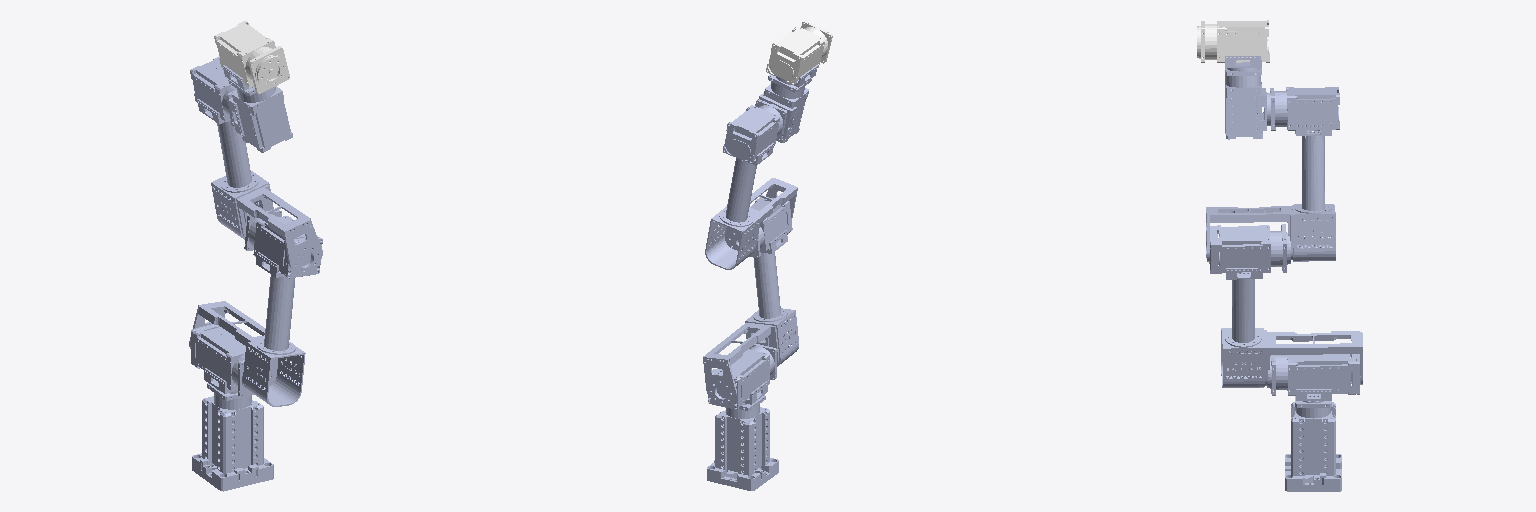
robot.urdf — single_arm_v2:
<?xml version="1.0" encoding="utf-8"?>
<!-- This URDF was automatically created by SolidWorks to URDF Exporter! Originally created by [author] ([email redacted]) 
     Commit Version: 1.6.0-4-g7f85cfe  Build Version: 1.6.7995.38578
     For more information, please see http://wiki.ros.org/sw_urdf_exporter -->
<robot
  name="single_arm_v2">
  <!-- <link name="dummy">
   </link> -->
  <link
    name="base_link">
    <inertial>
      <origin
        xyz="8.3267E-17 -0.00062215 0.025317"
        rpy="0 0 0" />
      <mass
        value="0.15351" />
      <inertia
        ixx="0.0001349"
        ixy="5.1034E-20"
        ixz="8.9997E-21"
        iyy="0.00013491"
        iyz="-2.7571E-08"
        izz="7.78E-05" />
    </inertial>
    <visual>
      <origin
        xyz="0 0 0"
        rpy="0 0 0" />
      <geometry>
        <mesh
          filename="package://single_arm_v2/meshes/base_link.STL" />
      </geometry>
      <material
        name="">
        <color
          rgba="0.79216 0.81961 0.93333 1" />
      </material>
    </visual>
    <collision>
      <origin
        xyz="0 0 0"
        rpy="0 0 0" />
      <geometry>
        <mesh
          filename="package://single_arm_v2/meshes/base_link.STL" />
      </geometry>
    </collision>
  </link>
  <link
    name="Link1">
    <inertial>
      <origin
        xyz="-0.000208969561899502 3.70415647875377E-06 -0.0914678034682378"
        rpy="0 0 0" />
      <mass
        value="0.356747175042505" />
      <inertia
        ixx="0.000466935161399951"
        ixy="-1.39053669707838E-08"
        ixz="-4.18194497082418E-06"
        iyy="0.000471168600139652"
        iyz="7.79979816899343E-08"
        izz="0.000169110112801691" />
    </inertial>
    <visual>
      <origin
        xyz="0 0 0"
        rpy="0 0 0" />
      <geometry>
        <mesh
          filename="package://single_arm_v2/meshes/Link1.STL" />
      </geometry>
      <material
        name="">
        <color
          rgba="0.792156862745098 0.819607843137255 0.933333333333333 1" />
      </material>
    </visual>
    <collision>
      <origin
        xyz="0 0 0"
        rpy="0 0 0" />
      <geometry>
        <mesh
          filename="package://single_arm_v2/meshes/Link1.STL" />
      </geometry>
    </collision>
  </link>
  <joint
    name="Joint1"
    type="continuous">
    <origin
      xyz="0 0 0.166"
      rpy="0 0 0.035583" />
    <parent
      link="base_link" />
    <child
      link="Link1" />
    <axis
      xyz="0 0 1" />
  </joint>
  <link
    name="Link2">
    <inertial>
      <origin
        xyz="0.0267138919983926 -0.000551681871358595 -0.0794495660665453"
        rpy="0 0 0" />
      <mass
        value="0.637415662122893" />
      <inertia
        ixx="0.000729639362759575"
        ixy="1.15654793300562E-06"
        ixz="-4.09240061674875E-06"
        iyy="0.000781749941722208"
        iyz="-5.93794042473328E-07"
        izz="0.000405758677952146" />
    </inertial>
    <visual>
      <origin
        xyz="0 0 0"
        rpy="0 0 0" />
      <geometry>
        <mesh
          filename="package://single_arm_v2/meshes/Link2.STL" />
      </geometry>
      <material
        name="">
        <color
          rgba="0.792156862745098 0.819607843137255 0.933333333333333 1" />
      </material>
    </visual>
    <collision>
      <origin
        xyz="0 0 0"
        rpy="0 0 0" />
      <geometry>
        <mesh
          filename="package://single_arm_v2/meshes/Link2.STL" />
      </geometry>
    </collision>
  </link>
  <joint
    name="Joint2"
    type="continuous">
    <origin
      xyz="0.0037177 -0.10443 0.166"
      rpy="1.5708 -1.4653 0.035583" />
    <parent
      link="base_link" />
    <child
      link="Link2" />
    <axis
      xyz="0 0 1" />
  </joint>
  <link
    name="Link3">
    <inertial>
      <origin
        xyz="0.0287714458780937 0.000486530855206564 0.070422833788985"
        rpy="0 0 0" />
      <mass
        value="0.58382475134923" />
      <inertia
        ixx="0.000530570540190881"
        ixy="-1.00386692094843E-06"
        ixz="3.32555743007372E-06"
        iyy="0.000584921945100324"
        iyz="-1.06538525812843E-06"
        izz="0.000382901776733043" />
    </inertial>
    <visual>
      <origin
        xyz="0 0 0"
        rpy="0 0 0" />
      <geometry>
        <mesh
          filename="package://single_arm_v2/meshes/Link3.STL" />
      </geometry>
      <material
        name="">
        <color
          rgba="0.792156862745098 0.819607843137255 0.933333333333333 1" />
      </material>
    </visual>
    <collision>
      <origin
        xyz="0 0 0"
        rpy="0 0 0" />
      <geometry>
        <mesh
          filename="package://single_arm_v2/meshes/Link3.STL" />
      </geometry>
    </collision>
  </link>
  <joint
    name="Joint3"
    type="continuous">
    <origin
      xyz="0.022524 0.00080181 0.37881"
      rpy="-1.5708 -1.393 -3.106" />
    <parent
      link="base_link" />
    <child
      link="Link3" />
    <axis
      xyz="0 0 -1" />
  </joint>
  <link
    name="Link4">
    <inertial>
      <origin
        xyz="-1.44241830598718E-05 -0.000237088430205645 -0.0815190126224092"
        rpy="0 0 0" />
      <mass
        value="0.313854171959485" />
      <inertia
        ixx="0.000309055663727506"
        ixy="3.15842982335696E-08"
        ixz="-2.1341120240503E-07"
        iyy="0.000314206451539731"
        iyz="-3.50781233699246E-06"
        izz="0.000148950383506142" />
    </inertial>
    <visual>
      <origin
        xyz="0 0 0"
        rpy="0 0 0" />
      <geometry>
        <mesh
          filename="package://single_arm_v2/meshes/Link4.STL" />
      </geometry>
      <material
        name="">
        <color
          rgba="0.792156862745098 0.819607843137255 0.933333333333333 1" />
      </material>
    </visual>
    <collision>
      <origin
        xyz="0 0 0"
        rpy="0 0 0" />
      <geometry>
        <mesh
          filename="package://single_arm_v2/meshes/Link4.STL" />
      </geometry>
    </collision>
  </link>
  <joint
    name="Joint4"
    type="continuous">
    <origin
      xyz="-0.01164 -0.10358 0.58944"
      rpy="1.5708 -0.23859 0.035583" />
    <parent
      link="base_link" />
    <child
      link="Link4" />
    <axis
      xyz="0 0 1" />
  </joint>
  <link
    name="Link5">
    <inertial>
      <origin
        xyz="-7.75054120247254E-06 0.000237400315751118 -0.0815190126223736"
        rpy="0 0 0" />
      <mass
        value="0.313854171959485" />
      <inertia
        ixx="0.000309054296972209"
        ixy="-1.6993505184371E-08"
        ixz="-1.1467216663642E-07"
        iyy="0.000314207818295028"
        iyz="3.51242680024222E-06"
        izz="0.000148950383506142" />
    </inertial>
    <visual>
      <origin
        xyz="0 0 0"
        rpy="0 0 0" />
      <geometry>
        <mesh
          filename="package://single_arm_v2/meshes/Link5.STL" />
      </geometry>
      <material
        name="">
        <color
          rgba="0.792156862745098 0.819607843137255 0.933333333333333 1" />
      </material>
    </visual>
    <collision>
      <origin
        xyz="0 0 0"
        rpy="0 0 0" />
      <geometry>
        <mesh
          filename="package://single_arm_v2/meshes/Link5.STL" />
      </geometry>
    </collision>
  </link>
  <joint
    name="Joint5"
    type="continuous">
    <origin
      xyz="-0.035991 -0.10445 0.68961"
      rpy="0.0079364 -0.23847 0.0019965" />
    <parent
      link="base_link" />
    <child
      link="Link5" />
    <axis
      xyz="0 0 1" />
  </joint>
  <link
    name="Link6">
    <inertial>
      <origin
        xyz="0 0 0"
        rpy="0 0 0" />
      <mass
        value="0" />
      <inertia
        ixx="0"
        ixy="0"
        ixz="0"
        iyy="0"
        iyz="0"
        izz="0" />
    </inertial>
    <visual>
      <origin
        xyz="0 0 0"
        rpy="0 0 0" />
      <geometry>
        <mesh
          filename="package://single_arm_v2/meshes/Link6.STL" />
      </geometry>
      <material
        name="">
        <color
          rgba="1 1 1 1" />
      </material>
    </visual>
    <collision>
      <origin
        xyz="0 0 0"
        rpy="0 0 0" />
      <geometry>
        <mesh
          filename="package://single_arm_v2/meshes/Link6.STL" />
      </geometry>
    </collision>
  </link>
  <joint
    name="Joint6"
    type="continuous">
    <origin
      xyz="-0.035726 -0.17294 0.68909"
      rpy="1.5787 -0.23847 0.0019965" />
    <parent
      link="base_link" />
    <child
      link="Link6" />
    <axis
      xyz="0 0 1" />
  </joint>
  <!-- <joint name="dummy_joint" type="fixed">
    <parent link="dummy"/>
    <child link="base_link"/>
   </joint> -->
</robot>

--- Facts derived from the render (not from the file) ---
Views: 3 orthographic renders of the robot side by side, from view 1: azimuth 30°, elevation 25°; view 2: azimuth 150°, elevation 25°; view 3: azimuth 270°, elevation 25°.
Robot: single_arm_v2 — 7 links, 6 joints (6 continuous); root link base_link; default pose: every joint at zero.
Visible links, largest first — view 1: Link2, Link3, base_link, Link6, Link5, Link1, Link4; view 2: Link2, Link3, base_link, Link4, Link6, Link1, Link5; view 3: Link2, Link3, Link4, base_link, Link5, Link6, Link1.
Link boxes in pixels (x1=…): Link2: x1=189, y1=252, x2=305, y2=406; Link3: x1=197, y1=99, x2=322, y2=278; base_link: x1=192, y1=396, x2=273, y2=491; Link6: x1=214, y1=21, x2=289, y2=93; Link5: x1=222, y1=65, x2=292, y2=152; Link1: x1=204, y1=368, x2=257, y2=468; Link4: x1=190, y1=56, x2=244, y2=135; Link2: x1=703, y1=230, x2=798, y2=409; Link3: x1=705, y1=143, x2=797, y2=269; base_link: x1=707, y1=407, x2=778, y2=490; Link4: x1=723, y1=93, x2=796, y2=163; Link6: x1=766, y1=21, x2=832, y2=84; Link1: x1=720, y1=381, x2=767, y2=472; Link5: x1=764, y1=65, x2=817, y2=142; Link2: x1=1221, y1=268, x2=1362, y2=395; Link3: x1=1206, y1=123, x2=1335, y2=273; Link4: x1=1255, y1=87, x2=1339, y2=131; base_link: x1=1285, y1=402, x2=1341, y2=491; Link5: x1=1225, y1=56, x2=1262, y2=139; Link6: x1=1197, y1=20, x2=1269, y2=62; Link1: x1=1295, y1=389, x2=1331, y2=474.
Bounding box of the posed robot: 0.1258 × 0.2478 × 0.7321 m (x, y, z).
7 mesh visuals loaded from 7 distinct referenced files (7 binary STL).